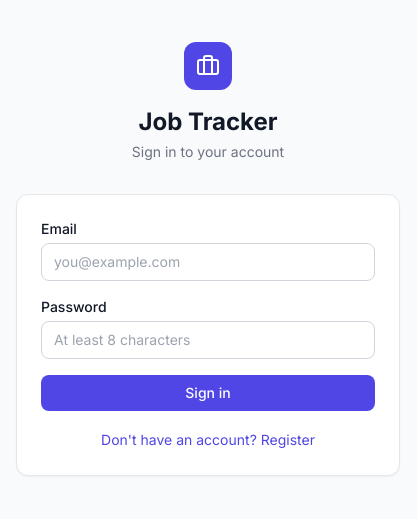
Test: Login page › displays an error message when login fails
Expected: the text "Sign in to your account" is shown, [132,143,284,160]
In the field labelled "Email": (208, 262) [41,243,375,281], type "wrong@example.com"
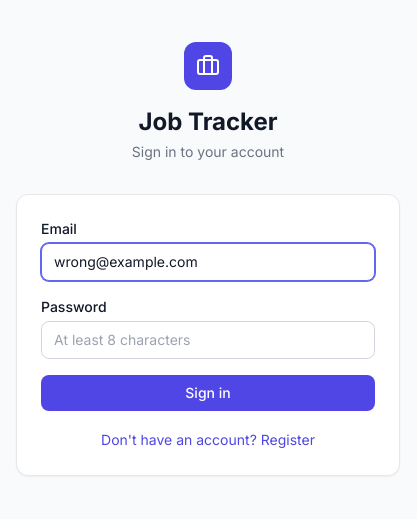
In the password field labelled "Password": (208, 340) [41,321,375,359], type "badpassword"
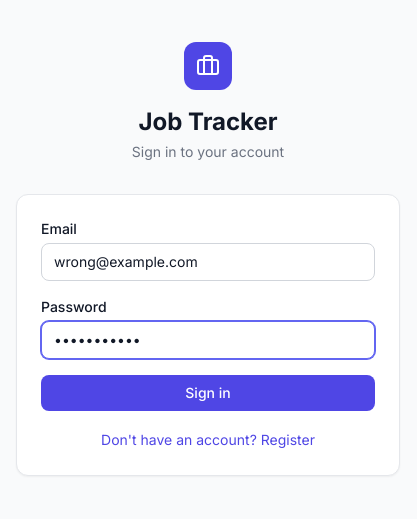
Click the button "Sign in": (208, 393) [41,375,375,411]
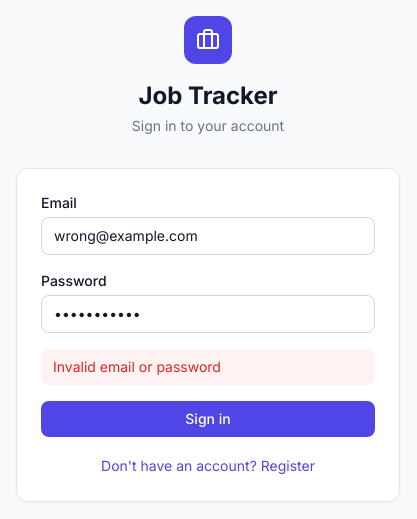
Result: the text "Invalid email or password" is shown at [41,349,375,385]
